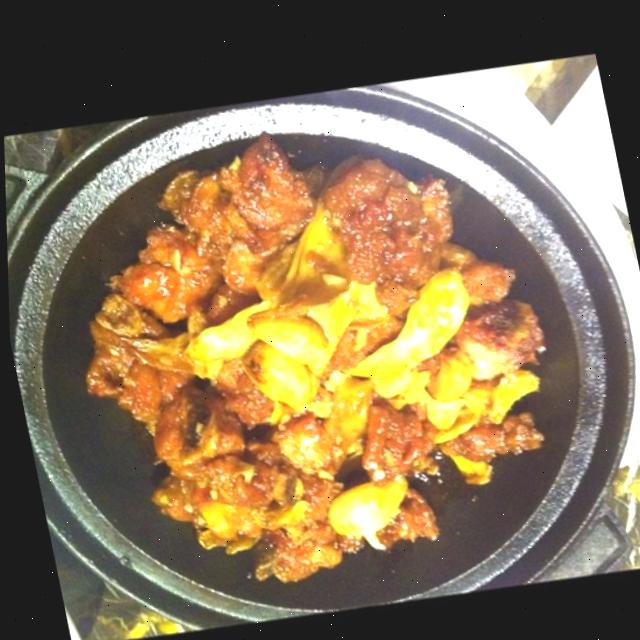鸡肉料理 含炸鸡: (49, 99, 613, 637)
